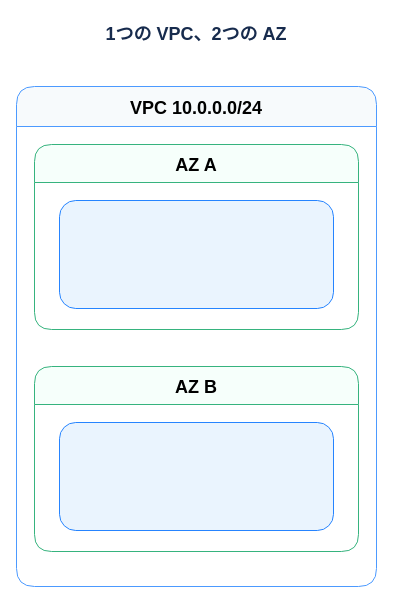
Some shapes in this 393 by 603 pixel diagram are drawn without their labels. Here are the shapes that lost their labels. From the top down, the centre of each, then its label:
At (x=196, y=254): "10.0.0.0/26 IPv4 アドレス 64 個 使用可能 59 個".
At (x=196, y=476): "10.0.0.64/26 IPv4 アドレス 64 個 使用可能 59 個".
